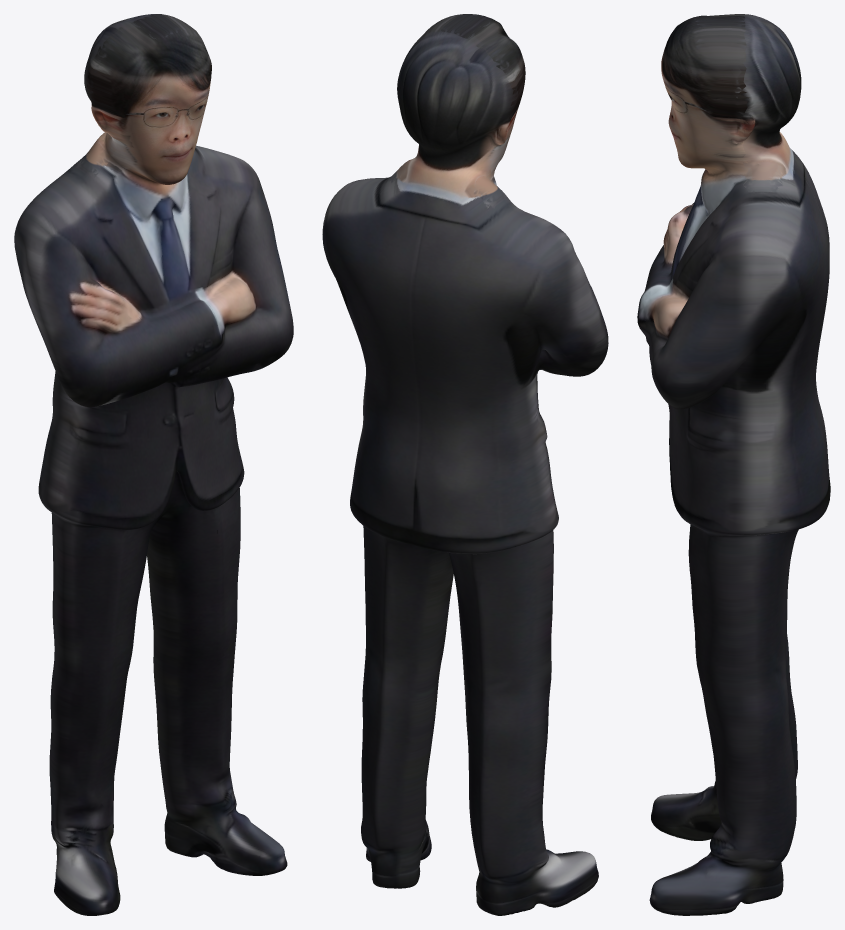
File: Coach2.fbx
The picture shows the model from 3 angles, left to right: view 1: azimuth 30°, elevation 25°; view 2: azimuth 150°, elevation 25°; view 3: azimuth 270°, elevation 25°; orthographic projection.
Parts seen in each view (by area): view 1: Coach2; view 2: Coach2; view 3: Coach2.
Boxes of the visible parts, left/top/right/bottom form: Coach2: left=14, top=14, right=293, bottom=915; Coach2: left=322, top=14, right=608, bottom=915; Coach2: left=637, top=14, right=830, bottom=915.
Size of the model in its own units: 51.79 by 175 by 36.05.
Materials: 1 (1 with a texture image).
